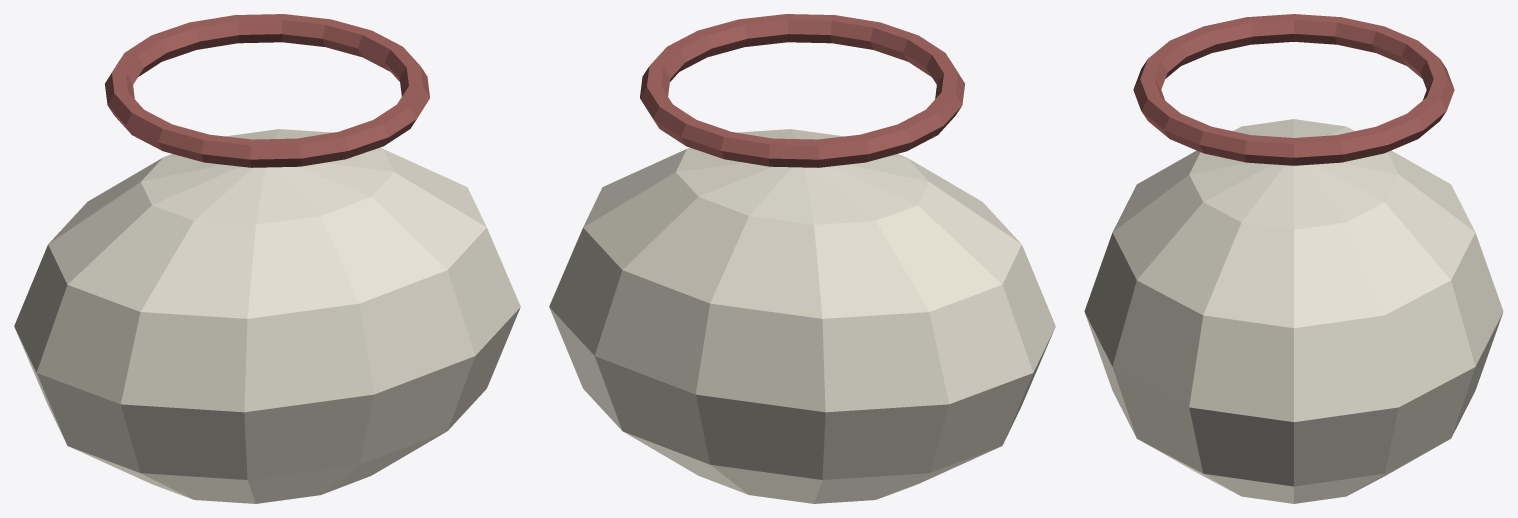
The model's file is PR-MEDBUNDLE.glb.
The picture shows the model from 3 angles, left to right: view 1: azimuth 30°, elevation 25°; view 2: azimuth 150°, elevation 25°; view 3: azimuth 270°, elevation 25°; orthographic projection.
Visible parts, largest first — view 1: cloth_packet, tie; view 2: cloth_packet, tie; view 3: cloth_packet, tie.
Part boxes in pixels (box(x1,y1,x2,y2)): cloth_packet: box(14, 129, 520, 503); tie: box(105, 14, 429, 167); cloth_packet: box(549, 129, 1055, 503); tie: box(640, 14, 964, 167); cloth_packet: box(1084, 119, 1503, 503); tie: box(1133, 14, 1454, 165).
Size of the model in its own units: 0.15 by 0.1235 by 0.12.
